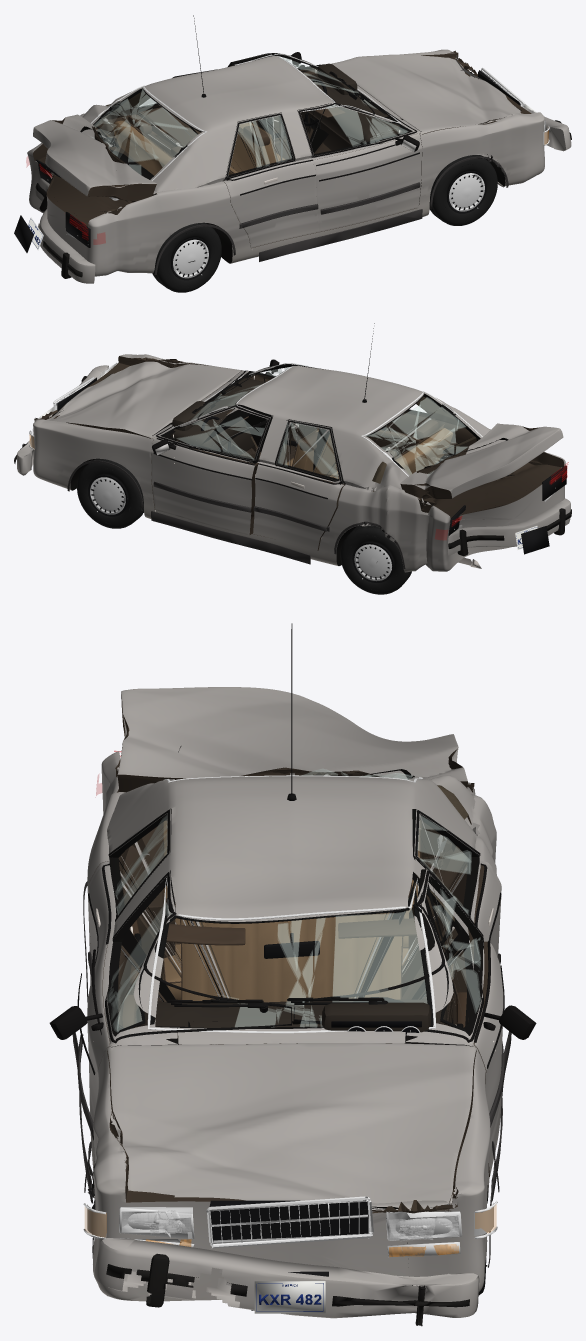
The model's file is sedan87_rear_corner_d1_lod1.glb.
3 views of the same model, one above another, from view 1: azimuth 30°, elevation 25°; view 2: azimuth 150°, elevation 25°; view 3: azimuth 270°, elevation 25° (orthographic). The views are drawn at different scales.
Parts seen in each view (by area): view 1: Body, Hood, Door_FR, Interior, Door_RR, Trunk, Glass, Wheel_FR_mesh, Wheel_RR_mesh, Trim, Ends, Bumper_R (+6 smaller); view 2: Body, Door_FL, Hood, Interior, Door_RL, Trunk, Glass, Wheel_FL_mesh, Wheel_RL_mesh, Trim, Bumper_R, Ends (+8 smaller); view 3: Body, Hood, Interior, Trunk, Ends, Bumper_F, Glass, Door_FL, Door_FR, Trim_FR, Door_RL, Trim_FL (+10 smaller).
Boxes of the visible parts, x1,y1,x2,y2 form: Body: [27, 49, 544, 276]; Hood: [330, 54, 521, 134]; Door_FR: [297, 103, 422, 231]; Interior: [113, 63, 402, 193]; Door_RR: [223, 112, 318, 247]; Trunk: [33, 114, 156, 201]; Glass: [91, 53, 400, 200]; Wheel_FR_mesh: [429, 155, 497, 225]; Wheel_RR_mesh: [152, 222, 221, 292]; Trim: [154, 15, 508, 274]; Ends: [14, 68, 549, 252]; Bumper_R: [35, 178, 95, 283]; Body: [33, 354, 565, 572]; Door_FL: [151, 406, 272, 535]; Hood: [46, 361, 243, 438]; Interior: [170, 378, 452, 478]; Door_RL: [253, 419, 345, 551]; Trunk: [400, 423, 563, 499]; Glass: [172, 363, 482, 476]; Wheel_FL_mesh: [77, 458, 143, 528]; Wheel_RL_mesh: [340, 525, 411, 594]; Trim: [67, 323, 405, 568]; Bumper_R: [448, 498, 571, 556]; Ends: [29, 363, 566, 554]; Body: [87, 751, 496, 1301]; Hood: [107, 1043, 476, 1213]; Interior: [136, 820, 447, 1044]; Trunk: [117, 687, 467, 792]; Ends: [83, 1196, 497, 1313]; Bumper_F: [94, 1238, 479, 1326]; Glass: [147, 769, 435, 1033]; Door_FL: [406, 869, 503, 1176]; Door_FR: [87, 870, 177, 1167]; Trim_FR: [49, 872, 291, 1140]; Door_RL: [412, 809, 501, 1026]; Trim_FL: [293, 870, 536, 1127].
Bounding box in the file's own units: 4.92 × 2.17 × 2.09.
33 materials, 5 textured.
